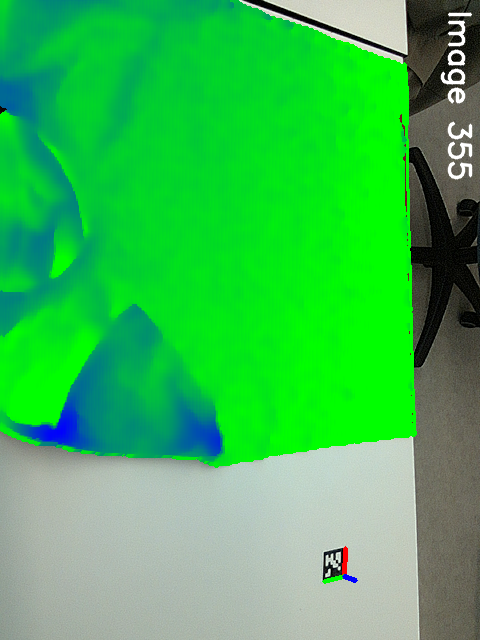V: (105, 280, 175, 348)
